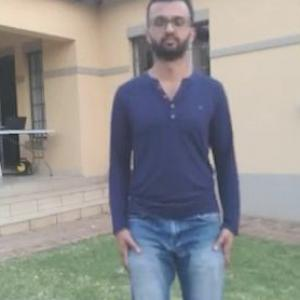follow: (112, 9, 229, 299)
